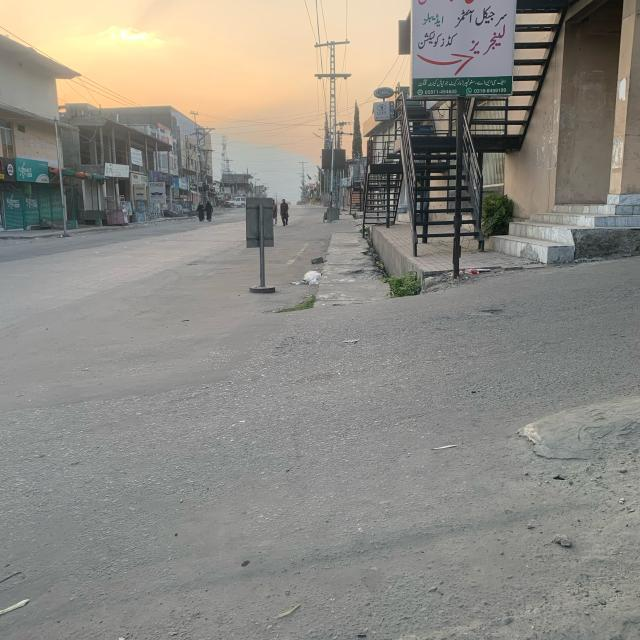Right-Turn: (66, 267, 556, 593)
straight: (0, 205, 240, 479)
